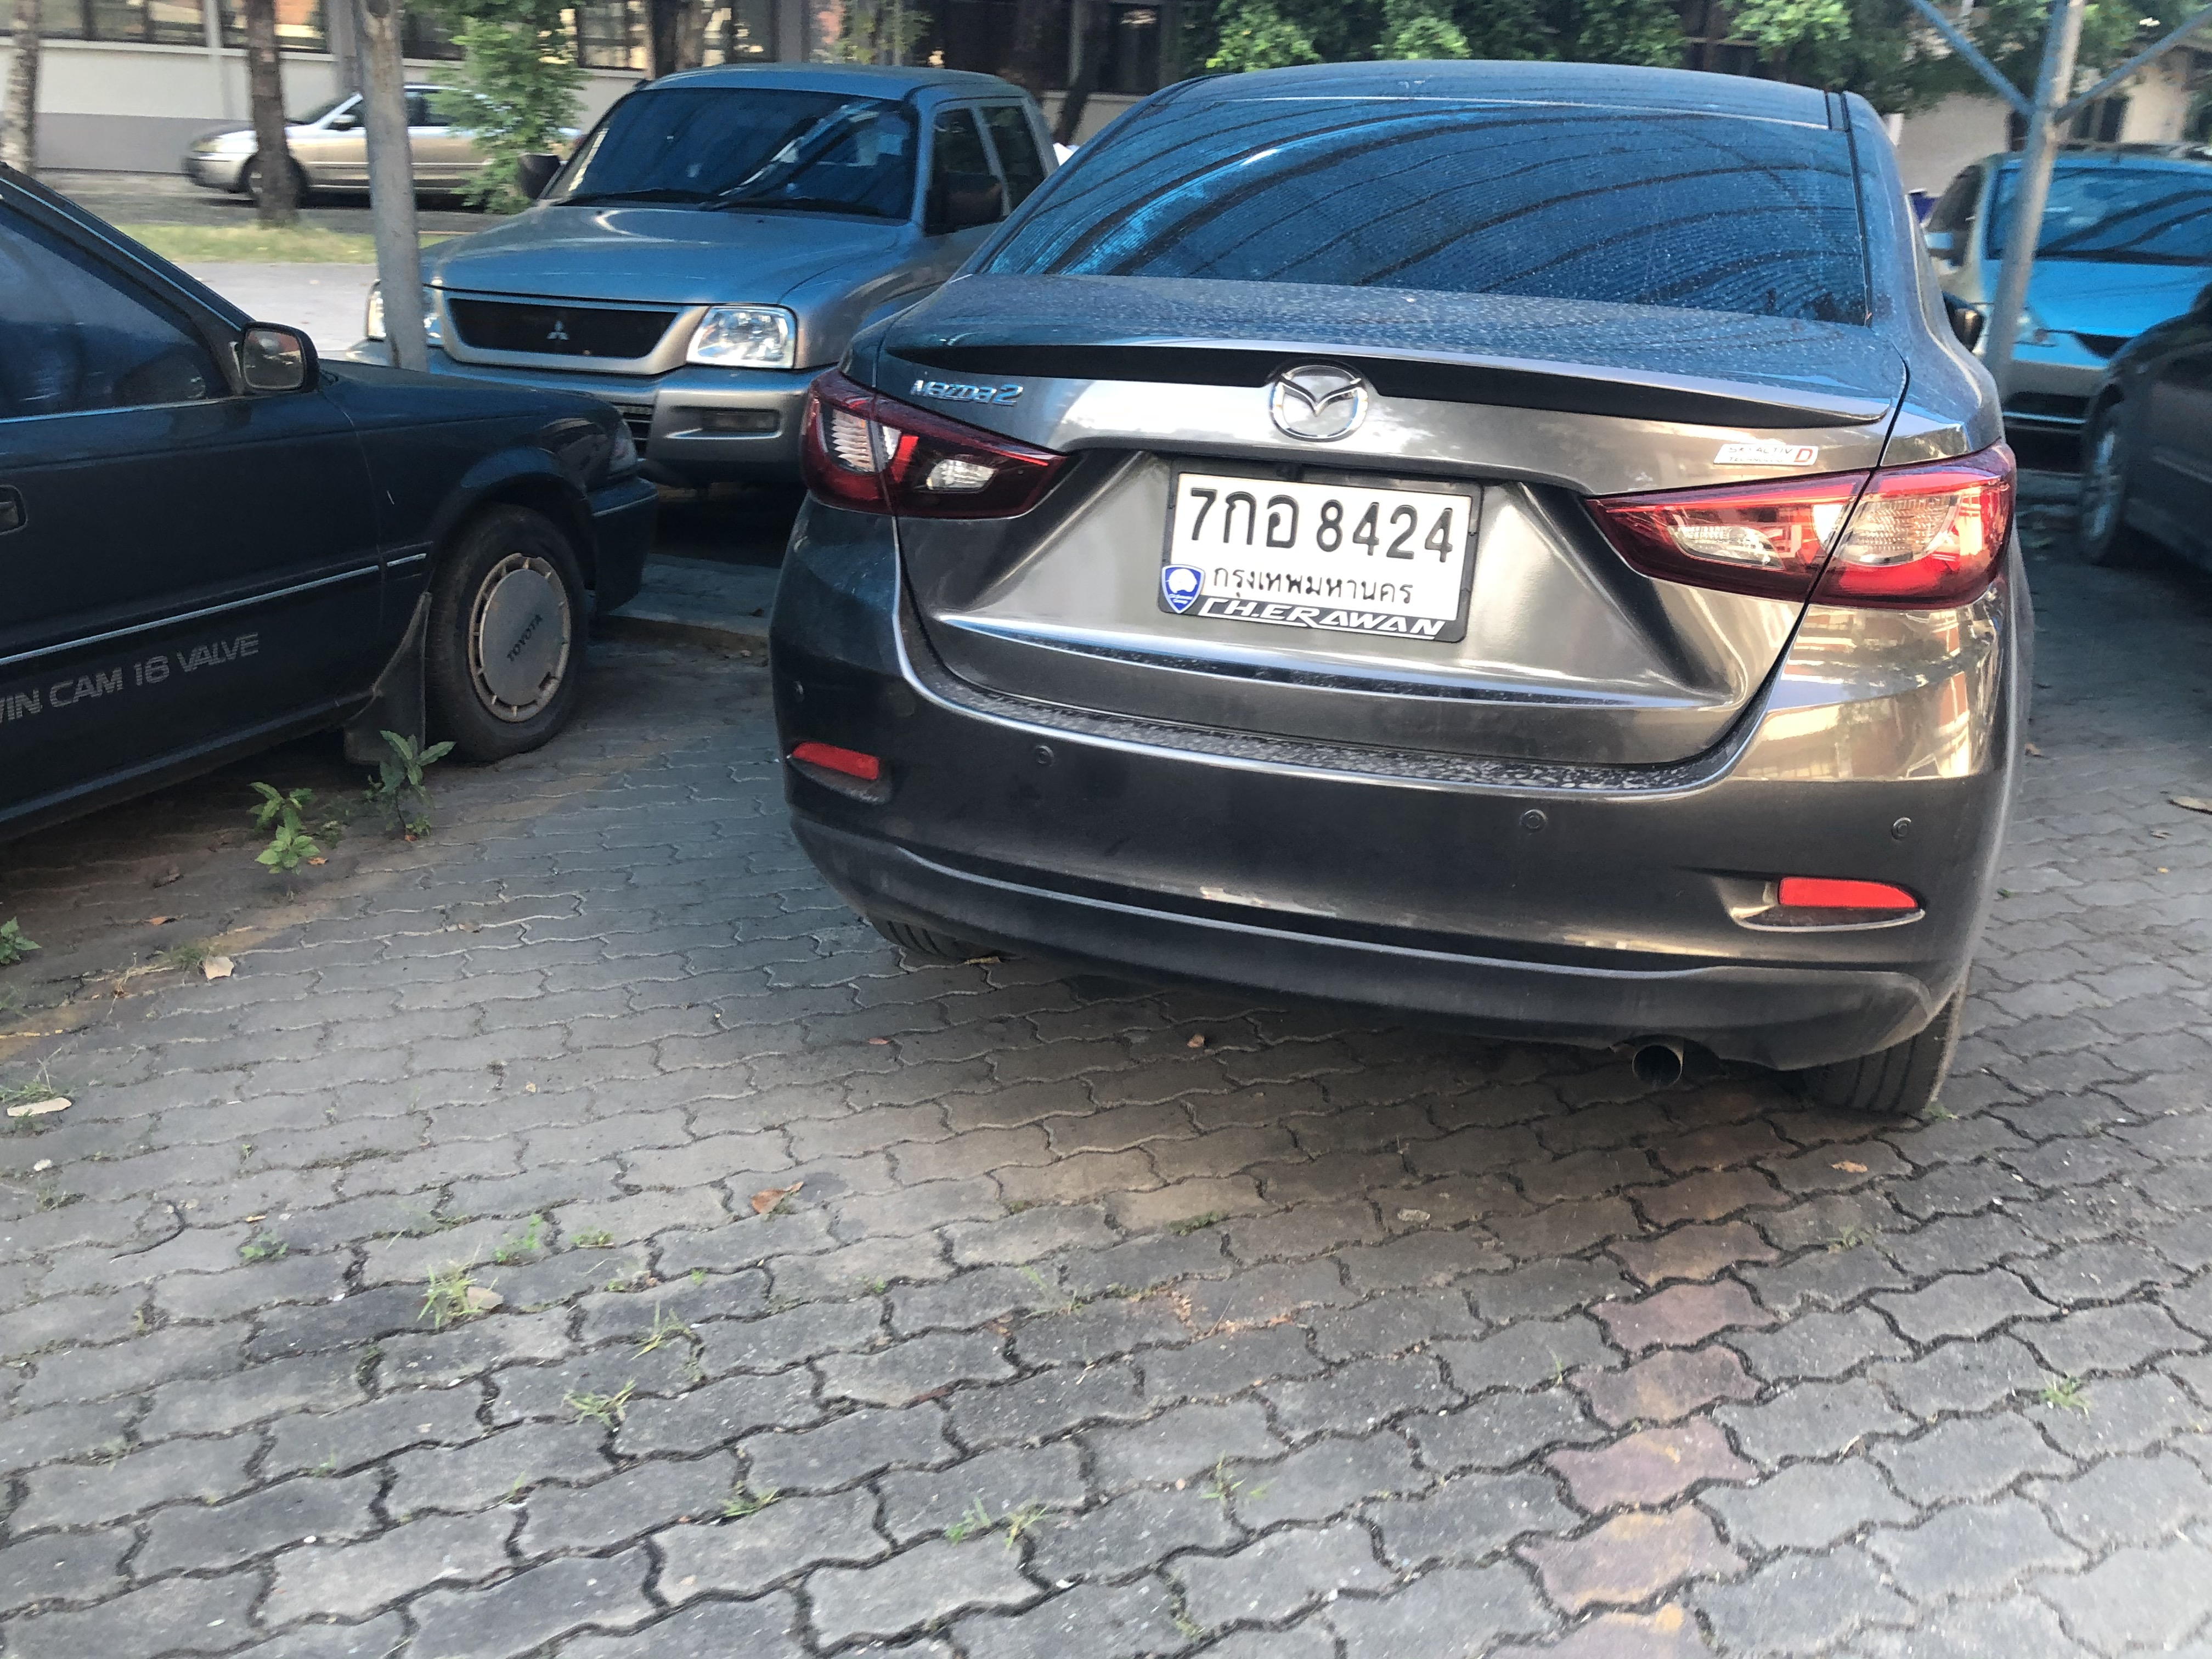in: (1172, 471, 1463, 624)
out: (1160, 450, 1484, 647)
